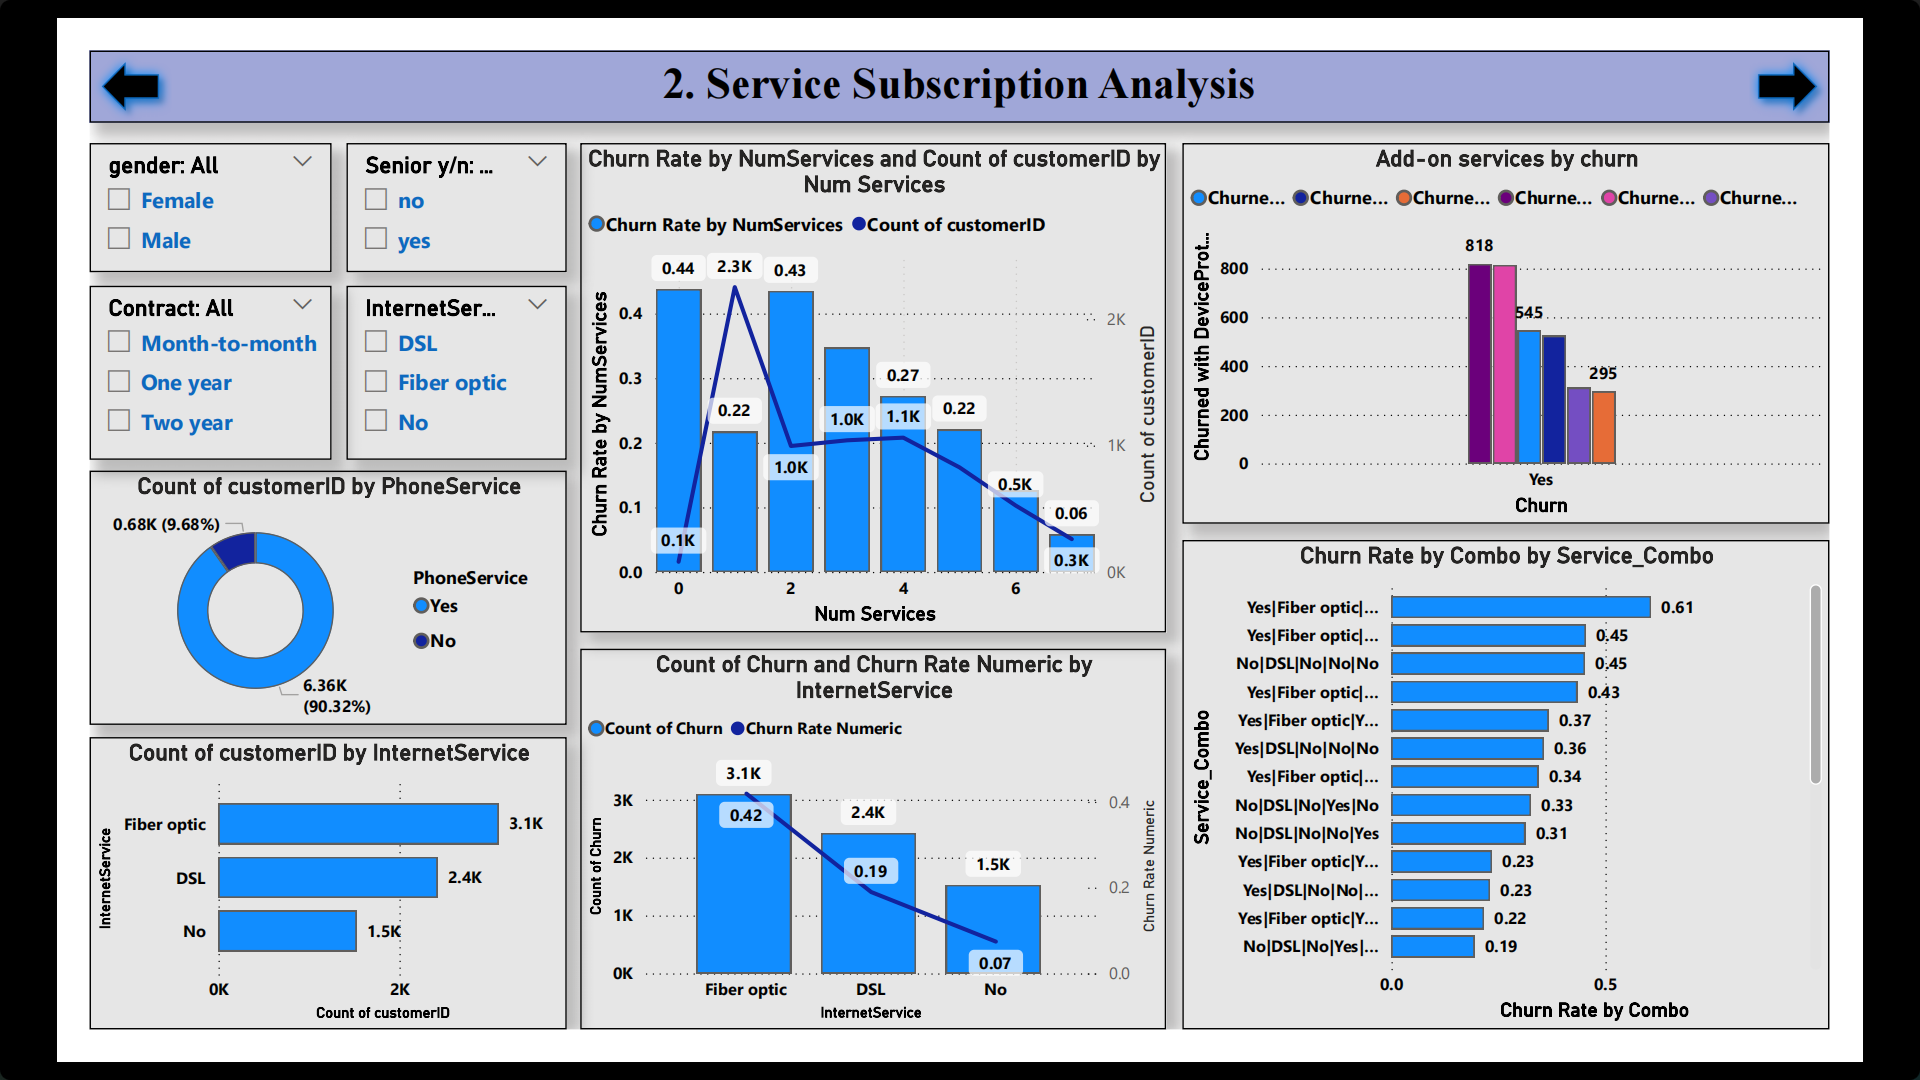

Layout of this report page (visuals, bound fields, positions):
{"tool":"powerbi","page":{"name":"Page 2","canvas":[1280,720],"ordinal":1},"visuals":[{"type":"textbox","box":[0,0,1280,53.5],"z":0},{"type":"donutChart","fields":{"Category":["Data set.PhoneService"],"Y":["CountNonNull(Data set.customerID)"]},"box":[0,308.5,350.8,187.8],"z":1000},{"type":"lineStackedColumnComboChart","fields":{"Category":["Data set.InternetService"],"Y":["CountNonNull(Data set.Churn)"],"Y2":["Data set.Churn Rate Numeric"]},"box":[360.7,440.4,431.7,279.9],"z":2000},{"type":"lineStackedColumnComboChart","fields":{"Y":["Data set.Churn Rate by NumServices"],"Category":["Data set.Num Services"],"Y2":["CountNonNull(Data set.customerID)"]},"box":[360.7,68.4,431.7,359.5],"z":3000},{"type":"clusteredColumnChart","title":"Add-on services by churn","fields":{"Category":["Data set.Churn"],"Y":["Data set.Churned with DeviceProtection","Data set.Churned with OnlineBackup","Data set.Churned with OnlineSecurity","Data set.Churned with StreamingMovies","Data set.Churned with StreamingTV","Data set.Churned with TechSupport"]},"box":[803.6,68.4,476.4,279.9],"z":4000},{"type":"barChart","fields":{"Category":["Data set.Service_Combo"],"Y":["Data set.Churn Rate by Combo"]},"box":[803.6,359.5,476.4,360.7],"z":5000},{"type":"barChart","fields":{"Category":["Data set.InternetService"],"Y":["CountNonNull(Data set.customerID)"]},"box":[0,505,350.8,215.2],"z":6000},{"type":"slicer","fields":{"Values":["Data set.gender"]},"box":[0,68.4,177.9,94.5],"z":7000},{"type":"slicer","fields":{"Values":["Data set.Senior y/n"]},"box":[189.1,68.4,161.7,94.5],"z":8000},{"type":"slicer","fields":{"Values":["Data set.InternetService"]},"box":[189.1,172.9,161.7,128.1],"z":9000},{"type":"slicer","fields":{"Values":["Data set.Contract"]},"box":[0,172.9,177.9,128.1],"z":10000},{"type":"shape","box":[1219.1,0,61,53.5],"z":11000},{"type":"shape","box":[0,0,59.7,53.5],"z":12000}]}

Visuals, with their boxes in screenshot pixels (x1, y1, x2, y2), scaled from the page's 1280x720 canvas onto the 1920x1080 screenshot:
textbox: (0, 0, 1919, 80)
donutChart - Data set.PhoneService x CountNonNull(Data set.customerID): (0, 463, 526, 744)
lineStackedColumnComboChart - Data set.InternetService x CountNonNull(Data set.Churn): (541, 661, 1189, 1079)
lineStackedColumnComboChart - Data set.Churn Rate by NumServices x Data set.Num Services: (541, 103, 1189, 642)
"Add-on services by churn" clusteredColumnChart: (1205, 103, 1919, 522)
barChart - Data set.Service_Combo x Data set.Churn Rate by Combo: (1205, 539, 1919, 1079)
barChart - Data set.InternetService x CountNonNull(Data set.customerID): (0, 758, 526, 1079)
slicer - Data set.gender: (0, 103, 267, 244)
slicer - Data set.Senior y/n: (284, 103, 526, 244)
slicer - Data set.InternetService: (284, 259, 526, 452)
slicer - Data set.Contract: (0, 259, 267, 452)
shape: (1829, 0, 1919, 80)
shape: (0, 0, 90, 80)
